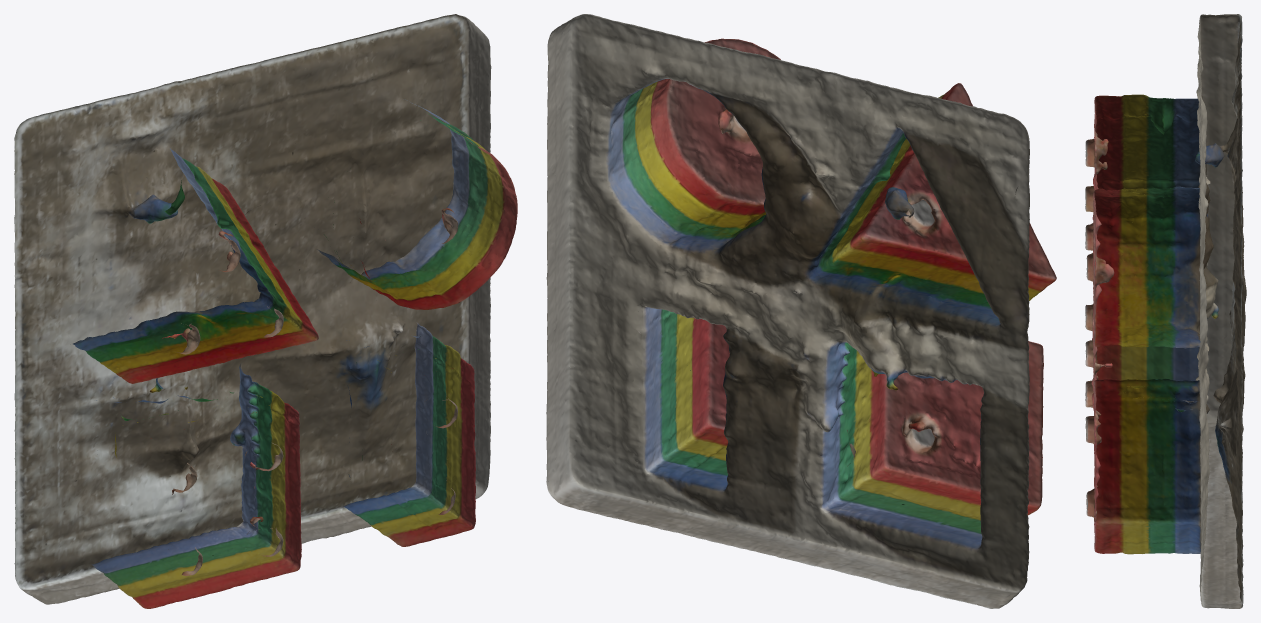
Rendered from sorting_board.glb.
3 views of the same model, side by side, from view 1: azimuth 30°, elevation 25°; view 2: azimuth 150°, elevation 25°; view 3: azimuth 270°, elevation 25° (orthographic). The views are drawn at different scales.
Size of the model in its own units: 1 by 0.9933 by 0.3488.
